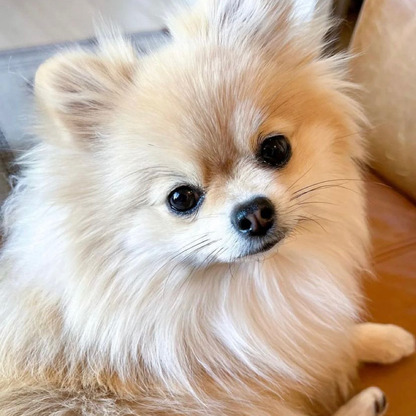Pomeranian: (23, 18, 387, 379)
